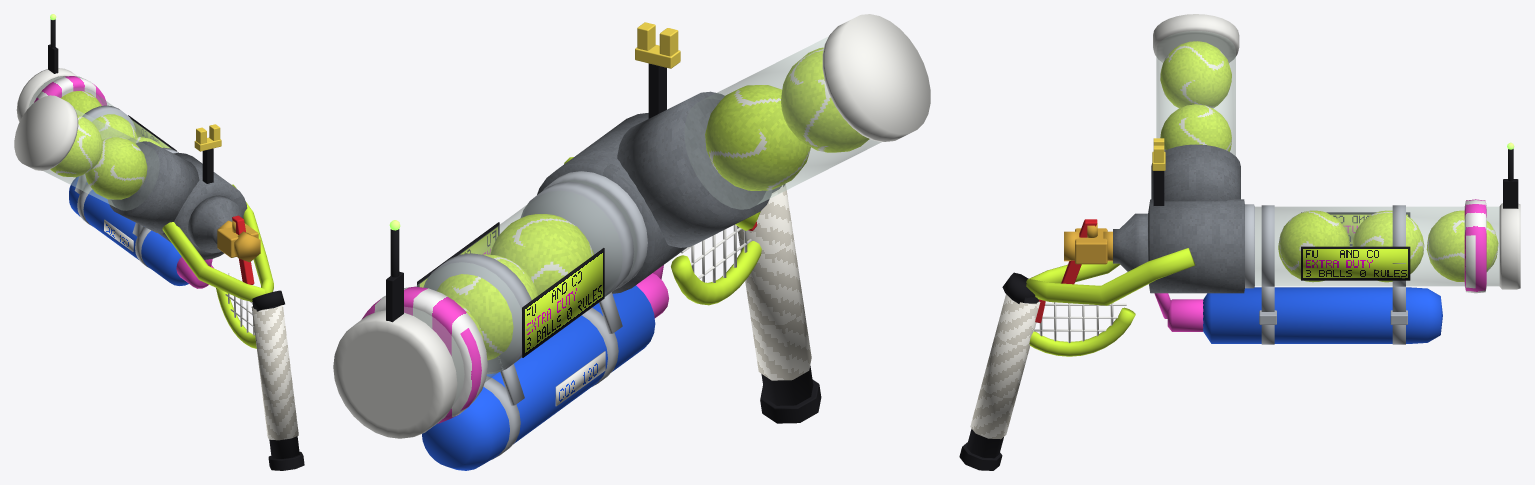
File: w_tennis.glb
3 views of the same model, side by side, from view 1: azimuth 30°, elevation 25°; view 2: azimuth 150°, elevation 25°; view 3: azimuth 270°, elevation 25° (orthographic). The views are drawn at different scales.
Visible parts, largest first — view 1: tennis_body_wzB, tennis_body_wzN, tennis_body_wzA; view 2: tennis_body_wzB, tennis_body_wzN, tennis_body_wzA; view 3: tennis_body_wzB, tennis_body_wzN, tennis_body_wzA.
Boxes of the visible parts, x1,y1,x2,y2 form: tennis_body_wzB: (14,68,260,285); tennis_body_wzN: (28,14,254,335); tennis_body_wzA: (48,19,304,470); tennis_body_wzB: (333,14,930,470); tennis_body_wzN: (361,22,881,423); tennis_body_wzA: (386,63,821,423); tennis_body_wzB: (1064,14,1520,344); tennis_body_wzN: (1034,31,1514,342); tennis_body_wzA: (959,149,1518,470).
Size of the model in its own units: 0.2796 by 0.4217 by 0.565.
Materials: 20 (6 with a texture image).
